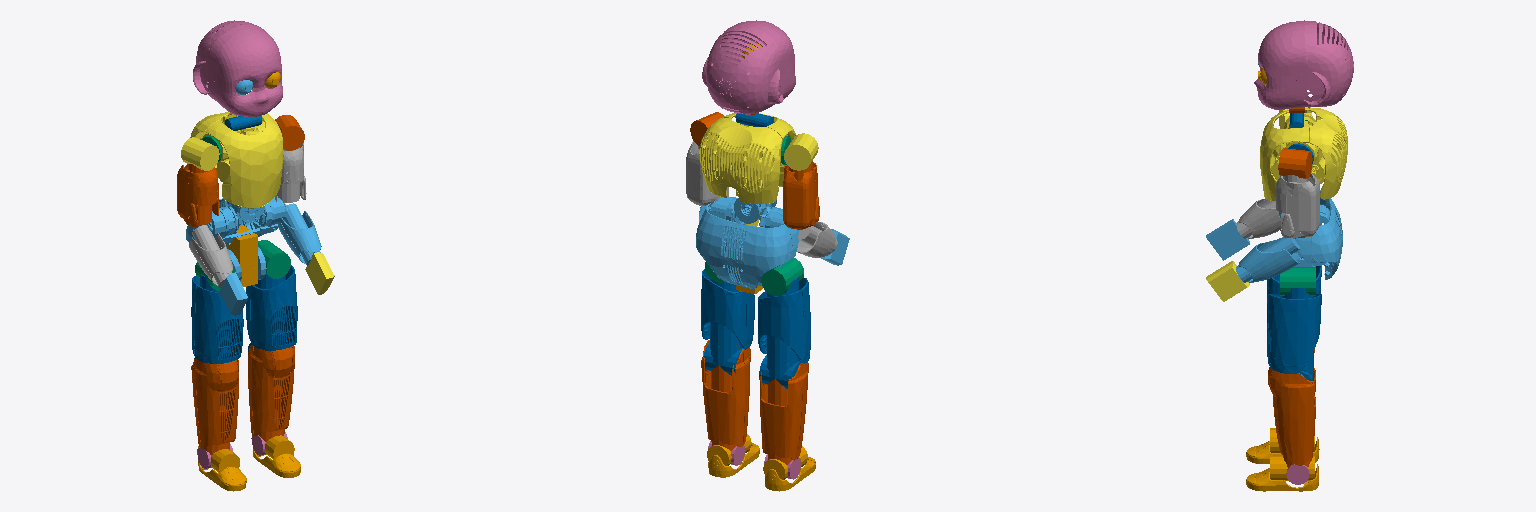
--- What the picture shows (computed from the rendered views, not written in the file) ---
Views: 3 orthographic renders of the robot side by side, from view 1: azimuth 30°, elevation 25°; view 2: azimuth 150°, elevation 25°; view 3: azimuth 270°, elevation 25°.
Robot: iCub — 42 links, 41 joints (35 revolute, 6 fixed); root link root_link; default pose: joints at zero except 2 at the middle of their limits (l_elbow = 0.973, r_elbow = 0.973).
Visible links, largest first — view 1: head, chest, l_lower_leg, r_lower_leg, l_upper_leg, r_upper_leg, torso_1, r_upper_arm, r_forearm, l_forearm, l_upper_arm, r_foot (+7 smaller); view 2: head, torso_1, chest, r_upper_leg, l_upper_leg, l_lower_leg, r_lower_leg, r_upper_arm, l_upper_arm, r_forearm, r_foot, l_foot (+2 smaller); view 3: head, chest, l_upper_leg, l_lower_leg, l_upper_arm, torso_1, l_forearm, l_foot, r_forearm, r_hand, l_hand, l_shoulder_2 (+2 smaller).
Boxes of the visible links, x1,y1,x2,y2 form: head: [193, 20, 282, 116]; chest: [190, 112, 283, 208]; l_lower_leg: [248, 338, 294, 441]; r_lower_leg: [191, 350, 238, 454]; l_upper_leg: [246, 265, 297, 351]; r_upper_leg: [191, 273, 243, 363]; torso_1: [186, 196, 287, 246]; r_upper_arm: [177, 164, 218, 227]; r_forearm: [189, 225, 233, 287]; l_forearm: [277, 203, 321, 265]; l_upper_arm: [275, 143, 306, 202]; r_foot: [197, 446, 246, 491]; head: [702, 20, 795, 114]; torso_1: [696, 197, 798, 288]; chest: [699, 113, 795, 203]; r_upper_leg: [758, 277, 810, 388]; l_upper_leg: [701, 269, 754, 375]; l_lower_leg: [701, 340, 750, 450]; r_lower_leg: [759, 355, 808, 464]; r_upper_arm: [783, 161, 819, 229]; l_upper_arm: [686, 141, 728, 205]; r_forearm: [797, 222, 837, 257]; r_foot: [763, 446, 815, 491]; l_foot: [707, 434, 759, 477]; head: [1254, 20, 1353, 109]; chest: [1260, 107, 1347, 200]; l_upper_leg: [1267, 288, 1321, 383]; l_lower_leg: [1268, 367, 1315, 466]; l_upper_arm: [1276, 173, 1319, 238]; torso_1: [1279, 190, 1342, 279]; l_forearm: [1236, 237, 1299, 282]; l_foot: [1246, 456, 1318, 491]; r_forearm: [1236, 199, 1280, 238]; r_hand: [1206, 219, 1249, 260]; l_hand: [1206, 261, 1249, 301]; l_shoulder_2: [1278, 148, 1312, 178].
Bounding box of the posed robot: 0.2946 × 0.3131 × 1.05 m (x, y, z).
Meshes: 28 distinct files referenced, 28 mesh visuals loaded (28 Collada DAE).

URDF robot description (iCub):
<?xml version="1.0" ?>
<robot name="iCub">
  <joint name="l_hip_pitch" type="revolute">
    <parent link="root_link"/>
    <child link="l_hip_1"/>
    <origin rpy="0       1.57079 -1.57079" xyz="-1.2879  0.671   0.4971"/>
    <axis xyz="0 -1  0"/>
    <limit effort="84.0" lower="-0.767945" upper="2.30383" velocity="100.0"/>
  </joint>
  <joint name="l_hip_roll" type="revolute">
    <parent link="l_hip_1"/>
    <child link="l_hip_2"/>
    <origin rpy="1.20394 -1.57079  1.93764" xyz="0 0 0"/>
    <axis xyz="1 0 0"/>
    <limit effort="84.0" lower="-2.07694" upper="0.296706" velocity="100.0"/>
  </joint>
  <joint name="l_leg_ft_sensor" type="fixed">
    <parent link="l_hip_2"/>
    <child link="l_hip_3"/>
    <origin rpy="0 0 0" xyz="0     0     0.0665"/>
    <axis xyz="0 0 0"/>
    <limit effort="0.0" lower="0.0" upper="0.0" velocity="0.0"/>
  </joint>
  <joint name="l_hip_yaw" type="revolute">
    <parent link="l_hip_3"/>
    <child link="l_upper_leg"/>
    <origin rpy="-1.5708  0      0" xyz="0      0     -0.0665"/>
    <axis xyz="0 1 0"/>
    <limit effort="40.0" lower="-1.37881" upper="1.37881" velocity="100.0"/>
  </joint>
  <joint name="l_knee" type="revolute">
    <parent link="l_upper_leg"/>
    <child link="l_lower_leg"/>
    <origin rpy="3.14159 0      1.5708" xyz="0     -0.2236  0"/>
    <axis xyz="0  0 -1"/>
    <limit effort="30.0" lower="-2.18166" upper="0.401426" velocity="100.0"/>
  </joint>
  <joint name="l_ankle_pitch" type="revolute">
    <parent link="l_lower_leg"/>
    <child link="l_ankle_1"/>
    <origin rpy="-1.5708  0      0" xyz="-0.213  0     0"/>
    <axis xyz="0 -1  0"/>
    <limit effort="24.0" lower="-0.733038" upper="0.366519" velocity="100.0"/>
  </joint>
  <joint name="l_ankle_roll" type="revolute">
    <parent link="l_ankle_1"/>
    <child link="l_ankle_2"/>
    <origin rpy="-2.64933 -1.57078  2.64933" xyz="0 0 0"/>
    <axis xyz="1 0 0"/>
    <limit effort="11.0" lower="-0.418879" upper="0.418879" velocity="100.0"/>
  </joint>
  <joint name="l_foot_ft_sensor" type="fixed">
    <parent link="l_ankle_2"/>
    <child link="l_foot"/>
    <origin rpy="0 0 0" xyz="0    0    0.037"/>
    <axis xyz="0 0 0"/>
    <limit effort="0.0" lower="0.0" upper="0.0" velocity="0.0"/>
  </joint>
  <joint name="r_hip_pitch" type="revolute">
    <parent link="root_link"/>
    <child link="r_hip_1"/>
    <origin rpy="3.14159  1.57079 -1.57079" xyz="-1.4241  0.671   0.4971"/>
    <axis xyz="0 1 0"/>
    <limit effort="84.0" lower="-0.767945" upper="2.30383" velocity="100.0"/>
  </joint>
  <joint name="r_hip_roll" type="revolute">
    <parent link="r_hip_1"/>
    <child link="r_hip_2"/>
    <origin rpy="1.93764 1.57079 1.93764" xyz="0 0 0"/>
    <axis xyz="-1  0  0"/>
    <limit effort="84.0" lower="-2.07694" upper="0.296706" velocity="100.0"/>
  </joint>
  <joint name="r_leg_ft_sensor" type="fixed">
    <parent link="r_hip_2"/>
    <child link="r_hip_3"/>
    <origin rpy="0 0 0" xyz="0     0     0.0665"/>
    <axis xyz="0 0 0"/>
    <limit effort="0.0" lower="0.0" upper="0.0" velocity="0.0"/>
  </joint>
  <joint name="r_hip_yaw" type="revolute">
    <parent link="r_hip_3"/>
    <child link="r_upper_leg"/>
    <origin rpy="-1.5708  0      0" xyz="0      0     -0.0665"/>
    <axis xyz="0 -1  0"/>
    <limit effort="40.0" lower="-1.37881" upper="1.37881" velocity="100.0"/>
  </joint>
  <joint name="r_knee" type="revolute">
    <parent link="r_upper_leg"/>
    <child link="r_lower_leg"/>
    <origin rpy="3.14158 0      1.5708" xyz="0     -0.2236  0"/>
    <axis xyz="0  0 -1"/>
    <limit effort="30.0" lower="-2.18166" upper="0.401426" velocity="100.0"/>
  </joint>
  <joint name="r_ankle_pitch" type="revolute">
    <parent link="r_lower_leg"/>
    <child link="r_ankle_1"/>
    <origin rpy="1.5708 0     0" xyz="-0.213  0     0"/>
    <axis xyz="0 1 0"/>
    <limit effort="24.0" lower="-0.733038" upper="0.366519" velocity="100.0"/>
  </joint>
  <joint name="r_ankle_roll" type="revolute">
    <parent link="r_ankle_1"/>
    <child link="r_ankle_2"/>
    <origin rpy="-0.67357  1.57079  2.46801" xyz="0 0 0"/>
    <axis xyz="-1  0  0"/>
    <limit effort="11.0" lower="-0.418879" upper="0.418879" velocity="100.0"/>
  </joint>
  <joint name="r_foot_ft_sensor" type="fixed">
    <parent link="r_ankle_2"/>
    <child link="r_foot"/>
    <origin rpy="0 0 0" xyz="0    0    0.037"/>
    <axis xyz="0 0 0"/>
    <limit effort="0.0" lower="0.0" upper="0.0" velocity="0.0"/>
  </joint>
  <joint name="torso_pitch" type="revolute">
    <parent link="root_link"/>
    <child link="torso_1"/>
    <origin rpy="3.14159 -1.57079  1.57079" xyz="-1.356  0.671  0.617"/>
    <axis xyz="0 1 0"/>
    <limit effort="36.0" lower="-0.383972" upper="1.46608" velocity="100.0"/>
  </joint>
  <joint name="torso_roll" type="revolute">
    <parent link="torso_1"/>
    <child link="torso_2"/>
    <origin rpy="1.57079  0      -1.5708" xyz="0.032 0    0"/>
    <axis xyz="0 1 0"/>
    <limit effort="80.0" lower="-0.680678" upper="0.680678" velocity="100.0"/>
  </joint>
  <joint name="torso_yaw" type="revolute">
    <parent link="torso_2"/>
    <child link="chest"/>
    <origin rpy="-1.57079  0      -1.5708" xyz="0     -0.0055  0"/>
    <axis xyz="0 -1  0"/>
    <limit effort="80.0" lower="-1.02974" upper="1.02974" velocity="100.0"/>
  </joint>
  <joint name="l_shoulder_pitch" type="revolute">
    <parent link="chest"/>
    <child link="l_shoulder_1"/>
    <origin rpy="1.30899 0      1.57079" xyz="0.00525  0.1433  -0.11026"/>
    <axis xyz="0 -1  0"/>
    <limit effort="84.0" lower="-1.65806" upper="0.0872665" velocity="100.0"/>
  </joint>
  <joint name="l_shoulder_roll" type="revolute">
    <parent link="l_shoulder_1"/>
    <child link="l_shoulder_2"/>
    <origin rpy="1.5708   0      -1.57079" xyz="0 0 0"/>
    <axis xyz="0 1 0"/>
    <limit effort="84.0" lower="0.0" upper="2.80649" velocity="100.0"/>
  </joint>
  <joint name="l_shoulder_yaw" type="revolute">
    <parent link="l_shoulder_2"/>
    <child link="l_shoulder_3"/>
    <origin rpy="0    0    1.309" xyz="0 0 0"/>
    <axis xyz="0 0 1"/>
    <limit effort="34.0" lower="-0.645772" upper="1.74533" velocity="100.0"/>
  </joint>
  <joint name="l_arm_ft_sensor" type="fixed">
    <parent link="l_shoulder_3"/>
    <child link="l_upper_arm"/>
    <origin rpy="0 0 0" xyz="0.015 0    0.068"/>
    <axis xyz="0 0 0"/>
    <limit effort="0.0" lower="0.0" upper="0.0" velocity="0.0"/>
  </joint>
  <joint name="l_elbow" type="revolute">
    <parent link="l_upper_arm"/>
    <child link="l_elbow_1"/>
    <origin rpy="0 0 0" xyz="0      0      0.08428"/>
    <axis xyz="0 1 0"/>
    <limit effort="20.0" lower="0.0959931" upper="1.85005" velocity="100.0"/>
  </joint>
  <joint name="l_wrist_prosup" type="revolute">
    <parent link="l_elbow_1"/>
    <child link="l_forearm"/>
    <origin rpy="1.57079  0      -1.5708" xyz="-0.015  0     0"/>
    <axis xyz="0 1 0"/>
    <limit effort="0.45" lower="-0.872665" upper="0.872665" velocity="100.0"/>
  </joint>
  <joint name="l_wrist_pitch" type="revolute">
    <parent link="l_forearm"/>
    <child link="l_wrist_1"/>
    <origin rpy="1.5708  0      1.57079" xyz="0     0.1373 0"/>
    <axis xyz="0 1 0"/>
    <limit effort="0.65" lower="-1.13446" upper="0.174533" velocity="100.0"/>
  </joint>
  <joint name="l_wrist_yaw" type="revolute">
    <parent link="l_wrist_1"/>
    <child link="l_hand"/>
    <origin rpy="0 0 0" xyz="0 0 0"/>
    <axis xyz="0 0 1"/>
    <limit effort="0.65" lower="-0.436332" upper="0.436332" velocity="100.0"/>
  </joint>
  <joint name="neck_pitch" type="revolute">
    <parent link="chest"/>
    <child link="neck_1"/>
    <origin rpy="1.57079 0      1.57079" xyz="0.00231 0.1933  0"/>
    <axis xyz="0 1 0"/>
    <limit effort="-1.0" lower="-0.698132" upper="0.523599" velocity="0.0"/>
  </joint>
  <joint name="neck_roll" type="revolute">
    <parent link="neck_1"/>
    <child link="neck_2"/>
    <origin rpy="-1.5708  0     -1.5708" xyz="0.0095 0     0"/>
    <axis xyz="0 -1  0"/>
    <limit effort="-1.0" lower="-1.22173" upper="1.0472" velocity="0.0"/>
  </joint>
  <joint name="neck_yaw" type="revolute">
    <parent link="neck_2"/>
    <child link="head"/>
    <origin rpy="-1.5708   0       1.57079" xyz="0 0 0"/>
    <axis xyz="0 -1  0"/>
    <limit effort="-1.0" lower="-0.959931" upper="0.959931" velocity="0.0"/>
  </joint>
  <joint name="eye_tilt" type="revolute">
    <parent link="head"/>
    <child link="eye_frame"/>
    <origin rpy="0 0 0" xyz="-0.04859 -0.11204  0"/>
    <axis xyz="0 0 1"/>
    <limit effort="-1.0" lower="-0.942477796" upper="0.942477796" velocity="0.0"/>
  </joint>
  <joint name="left_eye_pan" type="revolute">
    <parent link="eye_frame"/>
    <child link="left_eye"/>
    <origin rpy="0 0 0" xyz="0     0    -0.034"/>
    <axis xyz="0 -1  0"/>
    <limit effort="-1.0" lower="-0.942477796" upper="0.942477796" velocity="0.0"/>
  </joint>
  <joint name="right_eye_pan" type="revolute">
    <parent link="eye_frame"/>
    <child link="right_eye"/>
    <origin rpy="0 0 0" xyz="0    0    0.034"/>
    <axis xyz="0 -1  0"/>
    <limit effort="-1.0" lower="-0.942477796" upper="0.942477796" velocity="0.0"/>
  </joint>
  <joint name="r_shoulder_pitch" type="revolute">
    <parent link="chest"/>
    <child link="r_shoulder_1"/>
    <origin rpy="-1.30899  0       1.57079" xyz="0.00525 0.1433  0.11025"/>
    <axis xyz="0 1 0"/>
    <limit effort="84.0" lower="-1.65806" upper="0.0872665" velocity="100.0"/>
  </joint>
  <joint name="r_shoulder_roll" type="revolute">
    <parent link="r_shoulder_1"/>
    <child link="r_shoulder_2"/>
    <origin rpy="-1.57079  0      -1.57079" xyz="0 0 0"/>
    <axis xyz="0 -1  0"/>
    <limit effort="84.0" lower="0.0" upper="2.80649" velocity="100.0"/>
  </joint>
  <joint name="r_shoulder_yaw" type="revolute">
    <parent link="r_shoulder_2"/>
    <child link="r_shoulder_3"/>
    <origin rpy="3.14158 0      1.309" xyz="0 0 0"/>
    <axis xyz="0  0 -1"/>
    <limit effort="34.0" lower="-0.645772" upper="1.74533" velocity="100.0"/>
  </joint>
  <joint name="r_arm_ft_sensor" type="fixed">
    <parent link="r_shoulder_3"/>
    <child link="r_upper_arm"/>
    <origin rpy="0 0 0" xyz="0.015 0    0.068"/>
    <axis xyz="0 0 0"/>
    <limit effort="0.0" lower="0.0" upper="0.0" velocity="0.0"/>
  </joint>
  <joint name="r_elbow" type="revolute">
    <parent link="r_upper_arm"/>
    <child link="r_elbow_1"/>
    <origin rpy="3.14158 0      3.14159" xyz="0      0      0.08428"/>
    <axis xyz="0 1 0"/>
    <limit effort="20.0" lower="0.0959931" upper="1.85005" velocity="100.0"/>
  </joint>
  <joint name="r_wrist_prosup" type="revolute">
    <parent link="r_elbow_1"/>
    <child link="r_forearm"/>
    <origin rpy="1.57079  0      -1.5708" xyz="0.015 0    0"/>
    <axis xyz="0 1 0"/>
    <limit effort="0.45" lower="-0.872665" upper="0.872665" velocity="100.0"/>
  </joint>
  <joint name="r_wrist_pitch" type="revolute">
    <parent link="r_forearm"/>
    <child link="r_wrist_1"/>
    <origin rpy="1.5708  0      1.57079" xyz="0     -0.1373  0"/>
    <axis xyz="0 1 0"/>
    <limit effort="0.65" lower="-1.13446" upper="0.174533" velocity="100.0"/>
  </joint>
  <joint name="r_wrist_yaw" type="revolute">
    <parent link="r_wrist_1"/>
    <child link="r_hand"/>
    <origin rpy="0      0      3.14159" xyz="0 0 0"/>
    <axis xyz="0 0 1"/>
    <limit effort="0.65" lower="-0.436332" upper="0.436332" velocity="100.0"/>
  </joint>
  <link name="root_link">
    <inertial>
      <mass value="4.72"/>
      <origin rpy="0 0 0" xyz="0 0 0"/>
      <inertia ixx="0.01" ixy="0" ixz="0" iyy="0.01" iyz="0" izz="0.01"/>
    </inertial>
    <collision name="root_link_collision">
      <origin rpy="0      0      1.57079" xyz="-1.356  0.671  0.617"/>
      <geometry>
        <mesh filename="package://demonstrator6_description/meshes/collision/icub_simple_collision_root_link.dae" scale="1 1 1"/>
      </geometry>
    </collision>
    <visual name="root_link_visual">
      <origin rpy="0      0      1.57079" xyz="-1.356  0.671  0.617"/>
      <geometry>
        <mesh filename="package://demonstrator6_description/meshes/visual/icub_root_link.dae" scale="1 1 1"/>
      </geometry>
    </visual>
  </link>
  <link name="l_hip_1">
    <inertial>
      <mass value="0.754"/>
      <origin rpy="0 0 0" xyz="0     -0.0782  0"/>
      <inertia ixx="0.01" ixy="2.059e-06" ixz="1.451e-06" iyy="0.01" iyz="1.545e-06" izz="0.01"/>
    </inertial>
    <collision name="l_hip_1_collision">
      <origin rpy="-0.7854   1.57079 -2.35618" xyz="0 0 0"/>
      <geometry>
        <mesh filename="package://demonstrator6_description/meshes/collision/icub_simple_collision_l_hip_1.dae" scale="1 1 1"/>
      </geometry>
    </collision>
    <visual name="l_hip_1_visual">
      <origin rpy="-0.7854   1.57079 -2.35618" xyz="0 0 0"/>
      <geometry>
        <mesh filename="package://demonstrator6_description/meshes/visual/icub_l_hip_1.dae" scale="1 1 1"/>
      </geometry>
    </visual>
  </link>
  <link name="l_hip_2">
    <inertial>
      <mass value="0.526"/>
      <origin rpy="0 0 0" xyz="0      0      0.03045"/>
      <inertia ixx="0.01" ixy="-7.4e-08" ixz="1.0835e-05" iyy="0.01" iyz="-6.2e-08" izz="0.01"/>
    </inertial>
    <collision name="l_hip_2_collision">
      <origin rpy="0.78536 -1.57079  2.35623" xyz="0 0 0"/>
      <geometry>
        <mesh filename="package://demonstrator6_description/meshes/collision/icub_simple_collision_l_hip_2.dae" scale="1 1 1"/>
      </geometry>
    </collision>
    <visual name="l_hip_2_visual">
      <origin rpy="0.78536 -1.57079  2.35623" xyz="0 0 0"/>
      <geometry>
        <mesh filename="package://demonstrator6_description/meshes/visual/icub_l_hip_2.dae" scale="1 1 1"/>
      </geometry>
    </visual>
  </link>
  <link name="l_hip_3">
    <inertial>
      <mass value="0.1"/>
      <origin rpy="0 0 0" xyz="0 0 0"/>
      <inertia ixx="0.01" ixy="0" ixz="0" iyy="0.01" iyz="0" izz="0.01"/>
    </inertial>
  </link>
  <link name="l_upper_leg">
    <inertial>
      <mass value="20.175"/>
      <origin rpy="0 0 0" xyz="0.00144 -0.15942 -0.00039"/>
      <inertia ixx="100.01" ixy="-6.726e-05" ixz="2.267e-06" iyy="100.01" iyz="3.63726e-05" izz="100.01"/>
    </inertial>
    <collision name="l_upper_leg_collision">
      <origin rpy="-2.67797  1.57079 -1.10715" xyz="0 0 0"/>
      <geometry>
        <mesh filename="package://demonstrator6_description/meshes/collision/icub_simple_collision_l_thigh.dae" scale="1 1 1"/>
      </geometry>
    </collision>
    <visual name="l_upper_leg_visual">
      <origin rpy="-2.67797  1.57079 -1.10715" xyz="0 0 0"/>
      <geometry>
        <mesh filename="package://demonstrator6_description/meshes/visual/icub_l_thigh.dae" scale="1 1 1"/>
      </geometry>
    </visual>
  </link>
  <link name="l_lower_leg">
    <inertial>
      <mass value="10.264"/>
      <origin rpy="0 0 0" xyz="-0.1071   0.00182  0.00211"/>
      <inertia ixx="1000.01" ixy="-0.000185699" ixz="-6.3147e-05" iyy="1000.01" iyz="7.86e-07" izz="1000.01"/>
    </inertial>
    <collision name="l_lower_leg_collision">
      <origin rpy="-3.14159  0       1.5708" xyz="0 0 0"/>
      <geometry>
        <mesh filename="package://demonstrator6_description/meshes/collision/icub_simple_collision_l_shank.dae" scale="1 1 1"/>
      </geometry>
    </collision>
    <visual name="l_lower_leg_visual">
      <origin rpy="-3.14159  0       1.5708" xyz="0 0 0"/>
      <geometry>
        <mesh filename="package://demonstrator6_description/meshes/visual/icub_l_shank.dae" scale="1 1 1"/>
      </geometry>
    </visual>
  </link>
  <link name="l_ankle_1">
    <inertial>
      <mass value="100.746"/>
      <origin rpy="0 0 0" xyz="-0.0054   0.00163  0.0172"/>
      <inertia ixx="0.01" ixy="-7.081e-06" ixz="4.1421e-05" iyy="0.01" iyz="2.0817e-05" izz="0.01"/>
    </inertial>
    <collision name="l_ankle_1_collision">
      <origin rpy="1.5708 0     0" xyz="0 0 0"/>
      <geometry>
        <mesh filename="package://demonstrator6_description/meshes/collision/icub_simple_collision_l_ankle_1.dae" scale="1 1 1"/>
      </geometry>
    </collision>
    <visual name="l_ankle_1_visual">
      <origin rpy="1.5708 0     0" xyz="0 0 0"/>
      <geometry>
        <mesh filename="package://demonstrator6_description/meshes/visual/icub_l_ankle_1.dae" scale="1 1 1"/>
      </geometry>
    </visual>
  </link>
  <link name="l_ankle_2">
    <inertial>
      <mass value="100.2675"/>
      <origin rpy="0 0 0" xyz="0    0    0.037"/>
      <inertia ixx="0.01" ixy="0" ixz="0" iyy="0.01" iyz="0" izz="0.01"/>
    </inertial>
  </link>
  <link name="l_foot">
    <inertial>
      <mass value="1000.5935"/>
      <origin rpy="0 0 0" xyz="0.02406 -0.00061 -0.02841"/>
      <inertia ixx="1000.0" ixy="0.0" ixz="0.0" iyy="1000.0" iyz="0.0" izz="1000.0"/>
    </inertial>
    <collision name="l_foot_collision">
      <origin rpy="0 0 0" xyz="0.03  0   -0.01"/>
      <geometry>
        <box size="0.15 0.07 0.03"/>
      </geometry>
    </collision>
    <visual name="l_foot_visual">
      <origin rpy="-0.7854   1.57079 -0.7854" xyz="0     0    -0.037"/>
      <geometry>
        <mesh filename="package://demonstrator6_description/meshes/visual/icub_l_foot.dae" scale="1 1 1"/>
      </geometry>
    </visual>
  </link>
  <link name="r_hip_1">
    <inertial>
      <mass value="0.754"/>
      <origin rpy="0 0 0" xyz="0     -0.0782  0"/>
      <inertia ixx="0.01" ixy="0" ixz="0" iyy="0.01" iyz="0" izz="0.01"/>
    </inertial>
    <collision name="r_hip_1_collision">
      <origin rpy="1.76819 -1.57079  2.76109" xyz="0 0 0"/>
      <geometry>
        <mesh filename="package://demonstrator6_description/meshes/collision/icub_simple_collision_r_hip_1.dae" scale="1 1 1"/>
      </geometry>
    </collision>
    <visual name="r_hip_1_visual">
      <origin rpy="1.76819 -1.57079  2.76109" xyz="0 0 0"/>
      <geometry>
        <mesh filename="package://demonstrator6_description/meshes/visual/icub_r_hip_1.dae" scale="1 1 1"/>
      </geometry>
    </visual>
  </link>
  <link name="r_hip_2">
    <inertial>
      <mass value="0.526"/>
      <origin rpy="0 0 0" xyz="0      0      0.03045"/>
      <inertia ixx="0.01" ixy="0" ixz="0" iyy="0.01" iyz="0" izz="0.01"/>
    </inertial>
    <collision name="r_hip_2_collision">
      <origin rpy="-2.35627 -1.57079  2.35627" xyz="0 0 0"/>
      <geometry>
        <mesh filename="package://demonstrator6_description/meshes/collision/icub_simple_collision_r_hip_2.dae" scale="1 1 1"/>
      </geometry>
    </collision>
    <visual name="r_hip_2_visual">
      <origin rpy="-2.35627 -1.57079  2.35627" xyz="0 0 0"/>
      <geometry>
        <mesh filename="package://demonstrator6_description/meshes/visual/icub_r_hip_2.dae" scale="1 1 1"/>
      </geometry>
    </visual>
  </link>
  <link name="r_hip_3">
    <inertial>
      <mass value="0.1"/>
      <origin rpy="0 0 0" xyz="0 0 0"/>
      <inertia ixx="0.01" ixy="0" ixz="0" iyy="0.01" iyz="0" izz="0.01"/>
    </inertial>
  </link>
  <link name="r_upper_leg">
    <inertial>
      <mass value="20.175"/>
      <origin rpy="0 0 0" xyz="0.00144 -0.15942  0.00039"/>
      <inertia ixx="100.01" ixy="0" ixz="0" iyy="100.01" iyz="-2.71051e-20" izz="100.01"/>
    </inertial>
    <collision name="r_upper_leg_collision">
      <origin rpy="1.57087e+00 -1.57079e+00 -7.00000e-05" xyz="0 0 0"/>
      <geometry>
        <mesh filename="package://demonstrator6_description/meshes/collision/icub_simple_collision_r_thigh.dae" scale="1 1 1"/>
      </geometry>
    </collision>
    <visual name="r_upper_leg_visual">
      <origin rpy="1.57087e+00 -1.57079e+00 -7.00000e-05" xyz="0 0 0"/>
      <geometry>
        <mesh filename="package://demonstrator6_description/meshes/visual/icub_r_thigh.dae" scale="1 1 1"/>
      </geometry>
    </visual>
  </link>
  <link name="r_lower_leg">
    <inertial>
      <mass value="100.264"/>
      <origin rpy="0 0 0" xyz="-0.1071   0.00182 -0.00211"/>
      <inertia ixx="100.01" ixy="5.42101e-20" ixz="-5.42101e-20" iyy="100.01" iyz="8.47033e-22" izz="100.01"/>
    </inertial>
    <collision name="r_lower_leg_collision">
      <origin rpy="3.14159 0      1.5708" xyz="0 0 0"/>
      <geometry>
        <mesh filename="package://demonstrator6_description/meshes/collision/icub_simple_collision_r_shank.dae" scale="1 1 1"/>
      </geometry>
    </collision>
    <visual name="r_lower_leg_visual">
      <origin rpy="3.14159 0      1.5708" xyz="0 0 0"/>
      <geometry>
        <mesh filename="package://demonstrator6_description/meshes/visual/icub_r_shank.dae" scale="1 1 1"/>
      </geometry>
    </visual>
  </link>
  <link name="r_ankle_1">
    <inertial>
      <mass value="100.746"/>
      <origin rpy="0 0 0" xyz="-0.0054   0.00163 -0.0172"/>
      <inertia ixx="100.01" ixy="-1.69407e-21" ixz="1.35525e-20" iyy="100.01" iyz="3.38813e-21" izz="100.01"/>
    </inertial>
    <collision name="r_ankle_1_collision">
      <origin rpy="-1.5708  0      0" xyz="0 0 0"/>
      <geometry>
        <mesh filename="package://demonstrator6_description/meshes/collision/icub_simple_collision_r_ankle_1.dae" scale="1 1 1"/>
      </geometry>
    </collision>
    <visual name="r_ankle_1_visual">
      <origin rpy="-1.5708  0      0" xyz="0 0 0"/>
      <geometry>
        <mesh filename="package://demonstrator6_description/meshes/visual/icub_r_ankle_1.dae" scale="1 1 1"/>
      </geometry>
    </visual>
  </link>
  <link name="r_ankle_2">
    <inertial>
      <mass value="100.2675"/>
      <origin rpy="0 0 0" xyz="0    0    0.037"/>
      <inertia ixx="100.01" ixy="0" ixz="0" iyy="100.01" iyz="0" izz="100.01"/>
    </inertial>
  </link>
  <link name="r_foot">
    <inertial>
      <mass value="1000.5935"/>
      <origin rpy="0 0 0" xyz="0.02406  0.00061 -0.02841"/>
      <inertia ixx="1000.0" ixy="0.0" ixz="0.0" iyy="1000.0" iyz="0.0" izz="1000.0"/>
    </inertial>
    <collision name="r_foot_collision">
      <origin rpy="0 0 0" xyz="0.03  0   -0.01"/>
      <geometry>
        <box size="0.15 0.07 0.03"/>
      </geometry>
    </collision>
    <visual name="r_foot_visual">
      <origin rpy="-2.81983  1.57079  0.32176" xyz="0     0    -0.037"/>
      <geometry>
        <mesh filename="package://demonstrator6_description/meshes/visual/icub_r_foot.dae" scale="1 1 1"/>
      </geometry>
    </visual>
  </link>
  <link name="torso_1">
    <inertial>
      <mass value="0.1"/>
      <origin rpy="0 0 0" xyz="0 0 0"/>
      <inertia ixx="0.01" ixy="-4.263e-05" ixz="-3.889e-08" iyy="0.01" iyz="0" izz="0.01"/>
    </inertial>
    <collision name="torso_1_collision">
      <origin rpy="-1.5708  0      0" xyz="0 0 0"/>
      <geometry>
        <mesh filename="package://demonstrator6_description/meshes/collision/icub_simple_collision_lap_belt_1.dae" scale="1 1 1"/>
      </geometry>
    </collision>
    <visual name="torso_1_visual">
      <origin rpy="-1.5708  0      0" xyz="0 0 0"/>
      <geometry>
        <mesh filename="package://demonstrator6_description/meshes/visual/icub_lap_belt_1.dae" scale="1 1 1"/>
      </geometry>
    </visual>
  </link>
  <link name="torso_2">
    <inertial>
      <mass value="0.1"/>
      <origin rpy="0 0 0" xyz="0 0 0"/>
      <inertia ixx="0.01" ixy="-1.923e-06" ixz="5.095e-05" iyy="0.01" iyz="-3.849e-07" izz="0.01"/>
    </inertial>
  </link>
  <link name="chest">
    <inertial>
      <mass value="4.81"/>
      <origin rpy="0 0 0" xyz="0.00222 0.075   0"/>
      <inertia ixx="0.07472" ixy="-3.6e-06" ixz="-4.705e-05" iyy="0.08145" iyz="0.004567" izz="0.01306"/>
    </inertial>
    <collision name="chest_collision">
      <origin rpy="-1.10717 -1.57079  2.67798" xyz="-0.0055  0      0"/>
      <geometry>
        <mesh filename="package://demonstrator6_description/meshes/collision/icub_simple_collision_chest.dae" scale="1 1 1"/>
      </geometry>
    </collision>
    <visual name="chest_visual">
      <origin rpy="-1.10717 -1.57079  2.67798" xyz="-0.0055  0      0"/>
      <geometry>
        <mesh filename="package://demonstrator6_description/meshes/visual/icub_chest.dae" scale="1 1 1"/>
      </geometry>
    </visual>
  </link>
  <link name="l_shoulder_1">
    <inertial>
      <mass value="0.189"/>
      <origin rpy="0 0 0" xyz="0       0.0187  -0.00119"/>
      <inertia ixx="0.01" ixy="9e-09" ixz="0" iyy="0.01" iyz="-1.7e-08" izz="0.01"/>
    </inertial>
    <collision name="l_shoulder_1_collision">
      <origin rpy="-0.30106  1.57079 -1.87186" xyz="0       0.10928 -0.00521"/>
      <geometry>
        <mesh filename="package://demonstrator6_description/meshes/collision/icub_simple_collision_l_shoulder_1.dae" scale="1 1 1"/>
      </geometry>
    </collision>
    <visual name="l_shoulder_1_visual">
      <origin rpy="-0.30106  1.57079 -1.87186" xyz="0       0.10928 -0.00521"/>
      <geometry>
        <mesh filename="package://demonstrator6_description/meshes/visual/icub_l_shoulder_1.dae" scale="1 1 1"/>
      </geometry>
    </visual>
  </link>
  <link name="l_shoulder_2">
    <inertial>
      <mass value="0.179"/>
      <origin rpy="0 0 0" xyz="9.00e-05 -6.27e-03  1.66e-02"/>
      <inertia ixx="0.01" ixy="4.66e-07" ixz="3.65e-07" iyy="0.01" iyz="-2.0524e-05" izz="0.01"/>
    </inertial>
    <collision name="l_shoulder_2_collision">
      <origin rpy="-2.14033  1.57079 -0.56953" xyz="-0.00154 -0.00521  0"/>
      <geometry>
        <mesh filename="package://demonstrator6_description/meshes/collision/icub_simple_collision_l_shoulder_2.dae" scale="1 1 1"/>
      </geometry>
    </collision>
    <visual name="l_shoulder_2_visual">
      <origin rpy="-2.14033  1.57079 -0.56953" xyz="-0.00154 -0.00521  0"/>
      <geometry>
        <mesh filename="package://demonstrator6_description/meshes/visual/icub_l_shoulder_2.dae" scale="1 1 1"/>
      </geometry>
    </visual>
  </link>
  <link name="l_shoulder_3">
    <inertial>
      <mass value="0.156157"/>
      <origin rpy="0 0 0" xyz="5.590e-03 9.000e-05 5.013e-02"/>
      <inertia ixx="0.01" ixy="-5.662e-08" ixz="-4.3618e-06" iyy="0.01" iyz="-7.42844e-07" izz="0.01"/>
    </inertial>
  </link>
  <link name="l_upper_arm">
    <inertial>
      <mass value="0.727843"/>
      <origin rpy="0 0 0" xyz="-1.50e-04 -9.00e-05  2.98e-02"/>
      <inertia ixx="0.01" ixy="-1.08e-06" ixz="-2.29e-06" iyy="0.01" iyz="3.57e-06" izz="0.01"/>
    </inertial>
    <collision name="l_upper_arm_collision">
      <origin rpy="0     0    -1.309" xyz="-0.02043  0.00014 -0.068"/>
      <geometry>
        <mesh filename="package://demonstrator6_description/meshes/collision/icub_simple_collision_l_arm.dae" scale="1 1 1"/>
      </geometry>
    </collision>
    <visual name="l_upper_arm_visual">
      <origin rpy="0     0    -1.309" xyz="-0.02043  0.00014 -0.068"/>
      <geometry>
        <mesh filename="package://demonstrator6_description/meshes/visual/icub_l_arm.dae" scale="1 1 1"/>
      </geometry>
    </visual>
  </link>
  <link name="l_elbow_1">
    <inertial>
      <mass value="0.1"/>
      <origin rpy="0 0 0" xyz="-0.0013   0.00371 -0.00105"/>
      <inertia ixx="0.01" ixy="-5.15e-07" ixz="-4.08e-07" iyy="0.01" iyz="-3.71e-07" izz="0.01"/>
    </inertial>
  </link>
  <link name="l_forearm">
    <inertial>
      <mass value="0.525"/>
      <origin rpy="0 0 0" xyz="0.00034 0.066   0.00476"/>
      <inertia ixx="0.01" ixy="4.337e-06" ixz="2.39e-07" iyy="0.01" iyz="1.9381e-05" izz="0.01"/>
    </inertial>
    <collision name="l_forearm_collision">
      <origin rpy="-2.66395  1.57079 -1.09315" xyz="-0.00014  0       0.02043"/>
      <geometry>
        <mesh filename="package://demonstrator6_description/meshes/collision/icub_simple_collision_l_forearm.dae" scale="1 1 1"/>
      </geometry>
    </collision>
    <visual name="l_forearm_visual">
      <origin rpy="-2.66395  1.57079 -1.09315" xyz="-0.00014  0       0.02043"/>
      <geometry>
        <mesh filename="package://demonstrator6_description/meshes/visual/icub_l_forearm.dae" scale="1 1 1"/>
      </geometry>
    </visual>
  </link>
  <link name="l_wrist_1">
    <inertial>
      <mass value="0.1"/>
      <origin rpy="0 0 0" xyz="0 0 0"/>
      <inertia ixx="0.01" ixy="0" ixz="0" iyy="0.01" iyz="0" izz="0.01"/>
    </inertial>
  </link>
  <link name="l_hand">
    <inertial>
      <mass value="0.213"/>
      <origin rpy="0 0 0" xyz="0.07023 -0.00805 -0.007"/>
      <inertia ixx="1.01" ixy="1.278e-05" ixz="4.823e-06" iyy="1.01" iyz="-1.8188e-05" izz="1.01"/>
    </inertial>
    <collision name="l_hand_collision">
      <origin rpy="0 0 0" xyz="0       0.02043 -0.00014"/>
      <geometry>
        <mesh filename="package://demonstrator6_description/meshes/collision/icub_simple_collision_l_hand.dae" scale="1 1 1"/>
      </geometry>
    </collision>
    <visual name="l_hand_visual">
      <origin rpy="0 0 0" xyz="0       0.02043 -0.00014"/>
      <geometry>
        <mesh filename="package://demonstrator6_description/meshes/visual/icub_l_hand.dae" scale="1 1 1"/>
      </geometry>
    </visual>
  </link>
  <link name="neck_1">
    <inertial>
      <mass value="0.1"/>
      <origin rpy="0 0 0" xyz="0 0 0"/>
      <inertia ixx="0.01" ixy="0" ixz="0" iyy="0.01" iyz="0" izz="0.01"/>
    </inertial>
    <collision name="neck_1_collision">
      <origin rpy="3.14159 -1.57079  1.5708" xyz="0      0     -0.0055"/>
      <geometry>
        <mesh filename="package://demonstrator6_description/meshes/collision/icub_simple_collision_neck_1.dae" scale="1 1 1"/>
      </geometry>
    </collision>
    <visual name="neck_1_visual">
      <origin rpy="3.14159 -1.57079  1.5708" xyz="0      0     -0.0055"/>
      <geometry>
        <mesh filename="package://demonstrator6_description/meshes/visual/icub_neck_1.dae" scale="1 1 1"/>
      </geometry>
    </visual>
  </link>
  <link name="neck_2">
    <inertial>
      <mass value="0.1"/>
      <origin rpy="0 0 0" xyz="0 0 0"/>
      <inertia ixx="0.01" ixy="0" ixz="0" iyy="0.01" iyz="0" izz="0.01"/>
    </inertial>
    <collision name="neck_2_collision">
      <origin rpy="-3.14157 -1.57079 -1.57082" xyz="0     0.0055 0.0235"/>
      <geometry>
        <mesh filename="package://demonstrator6_description/meshes/collision/icub_simple_collision_neck_2.dae" scale="1 1 1"/>
      </geometry>
    </collision>
    <visual name="neck_2_visual">
      <origin rpy="-3.14157 -1.57079 -1.57082" xyz="0     0.0055 0.0235"/>
      <geometry>
        <mesh filename="package://demonstrator6_description/meshes/visual/icub_neck_2.dae" scale="1 1 1"/>
      </geometry>
    </visual>
  </link>
  <link name="head">
    <inertial>
      <mass value="3"/>
      <origin rpy="0 0 0" xyz="0.0185 -0.1108  0"/>
      <inertia ixx="0.01" ixy="0" ixz="0" iyy="0.01" iyz="0" izz="0.01"/>
    </inertial>
    <collision name="head_collision">
      <origin rpy="-1.32582  1.57079 -2.89662" xyz="0.00449 -0.0235   0"/>
      <geometry>
        <mesh filename="package://demonstrator6_description/meshes/collision/icub_simple_collision_head.dae" scale="1 1 1"/>
      </geometry>
    </collision>
    <visual name="head_visual">
      <origin rpy="-1.32582  1.57079 -2.89662" xyz="0.00449 -0.0235   0"/>
      <geometry>
        <mesh filename="package://demonstrator6_description/meshes/visual/icub_head.dae" scale="1 1 1"/>
      </geometry>
    </visual>
  </link>
  <link name="eye_frame">
    <inertial>
      <mass value="0.5"/>
      <origin rpy="0 0 0" xyz="0 0 0"/>
      <inertia ixx="0.01" ixy="0" ixz="0" iyy="0.01" iyz="0" izz="0.01"/>
    </inertial>
    <collision name="eye_frame_collision">
      <origin rpy="0 0 0" xyz="0 0 0"/>
      <geometry>
        <sphere radius=".005"/>
      </geometry>
    </collision>
    <visual name="eye_frame_visual">
      <origin rpy="0 0 0" xyz="0 0 0"/>
      <geometry>
        <sphere radius=".005"/>
      </geometry>
    </visual>
  </link>
  <link name="left_eye">
    <inertial>
      <mass value="0.5"/>
      <origin rpy="0 0 0" xyz="0 0 0"/>
      <inertia ixx="0.01" ixy="0" ixz="0" iyy="0.01" iyz="0" izz="0.01"/>
    </inertial>
    <collision name="left_eye_collision">
      <origin rpy="0 0 0" xyz="0 0 0"/>
      <geometry>
        <sphere radius=".0245"/>
      </geometry>
    </collision>
    <collision name="left_pupil_collision">
      <origin rpy="1.5707 0     1.5707" xyz="-0.0245  0      0"/>
      <geometry>
        <cylinder length=".008" radius=".008"/>
      </geometry>
    </collision>
    <visual name="left_eye_visual">
      <origin rpy="0 0 0" xyz="0 0 0"/>
      <geometry>
        <sphere radius=".0245"/>
      </geometry>
    </visual>
    <visual name="left_pupil_visual">
      <origin rpy="1.5707 0     1.5707" xyz="-0.0245  0      0"/>
      <geometry>
        <cylinder length=".008" radius=".008"/>
      </geometry>
    </visual>
  </link>
  <link name="right_eye">
    <inertial>
      <mass value="0.5"/>
      <origin rpy="0 0 0" xyz="0 0 0"/>
      <inertia ixx="0.01" ixy="0" ixz="0" iyy="0.01" iyz="0" izz="0.01"/>
    </inertial>
    <collision name="right_eye_collision">
      <origin rpy="0 0 0" xyz="0 0 0"/>
      <geometry>
        <sphere radius=".0245"/>
      </geometry>
    </collision>
    <collision name="right_pupil_collision">
      <origin rpy="1.5707 0     1.5707" xyz="-0.0245  0      0"/>
      <geometry>
        <cylinder length=".008" radius=".008"/>
      </geometry>
    </collision>
    <visual name="right_eye_visual">
      <origin rpy="0 0 0" xyz="0 0 0"/>
      <geometry>
        <sphere radius=".0245"/>
      </geometry>
    </visual>
    <visual name="right_pupil_visual">
      <origin rpy="1.5707 0     1.5707" xyz="-0.0245  0      0"/>
      <geometry>
        <cylinder length=".008" radius=".008"/>
      </geometry>
    </visual>
  </link>
  <link name="r_shoulder_1">
    <inertial>
      <mass value="0.189"/>
      <origin rpy="0 0 0" xyz="0      0.0187  0.00119"/>
      <inertia ixx="0.01" ixy="2.1e-08" ixz="-1e-09" iyy="0.01" iyz="4.22e-06" izz="0.01"/>
    </inertial>
    <collision name="r_shoulder_1_collision">
      <origin rpy="3.06003  1.57079 -1.65235" xyz="0      0.10928 0.00521"/>
      <geometry>
        <mesh filename="package://demonstrator6_description/meshes/collision/icub_simple_collision_r_shoulder_1.dae" scale="1 1 1"/>
      </geometry>
    </collision>
    <visual name="r_shoulder_1_visual">
      <origin rpy="3.06003  1.57079 -1.65235" xyz="0      0.10928 0.00521"/>
      <geometry>
        <mesh filename="package://demonstrator6_description/meshes/visual/icub_r_shoulder_1.dae" scale="1 1 1"/>
      </geometry>
    </visual>
  </link>
  <link name="r_shoulder_2">
    <inertial>
      <mass value="0.179"/>
      <origin rpy="0 0 0" xyz="-9.00e-05 -6.27e-03 -1.66e-02"/>
      <inertia ixx="0.01" ixy="-4.53e-07" ixz="2.03e-07" iyy="0.01" iyz="2.07e-05" izz="0.01"/>
    </inertial>
    <collision name="r_shoulder_2_collision">
      <origin rpy="-1.00125 -1.57079  2.57205" xyz="-0.00154 -0.00521  0"/>
      <geometry>
        <mesh filename="package://demonstrator6_description/meshes/collision/icub_simple_collision_r_shoulder_2.dae" scale="1 1 1"/>
      </geometry>
    </collision>
    <visual name="r_shoulder_2_visual">
      <origin rpy="-1.00125 -1.57079  2.57205" xyz="-0.00154 -0.00521  0"/>
      <geometry>
        <mesh filename="package://demonstrator6_description/meshes/visual/icub_r_shoulder_2.dae" scale="1 1 1"/>
      </geometry>
    </visual>
  </link>
  <link name="r_shoulder_3">
    <inertial>
      <mass value="0.155"/>
      <origin rpy="0 0 0" xyz="5.530e-03 -2.000e-05  4.939e-02"/>
      <inertia ixx="0.01" ixy="3.56977e-07" ixz="-3.95372e-06" iyy="0.01" iyz="-6.5128e-06" izz="0.01"/>
    </inertial>
  </link>
  <link name="r_upper_arm">
    <inertial>
      <mass value="0.729"/>
      <origin rpy="0 0 0" xyz="-1.500e-04  8.000e-05  2.988e-02"/>
      <inertia ixx="0.01" ixy="-1.08e-06" ixz="-2.29e-06" iyy="0.01" iyz="3.57e-06" izz="0.01"/>
    </inertial>
    <collision name="r_upper_arm_collision">
      <origin rpy="-3.14159  0       1.309" xyz="-0.02043 -0.00014 -0.068"/>
      <geometry>
        <mesh filename="package://demonstrator6_description/meshes/collision/icub_simple_collision_r_arm.dae" scale="1 1 1"/>
      </geometry>
    </collision>
    <visual name="r_upper_arm_visual">
      <origin rpy="-3.14159  0       1.309" xyz="-0.02043 -0.00014 -0.068"/>
      <geometry>
        <mesh filename="package://demonstrator6_description/meshes/visual/icub_r_arm.dae" scale="1 1 1"/>
      </geometry>
    </visual>
  </link>
  <link name="r_elbow_1">
    <inertial>
      <mass value="0.1"/>
      <origin rpy="0 0 0" xyz="0.0013  -0.00371  0.00105"/>
      <inertia ixx="0.01" ixy="-5.02e-07" ixz="-3.99e-07" iyy="0.01" iyz="-3.71e-07" izz="0.01"/>
    </inertial>
  </link>
  <link name="r_forearm">
    <inertial>
      <mass value="0.525"/>
      <origin rpy="0 0 0" xyz="-0.00034 -0.066   -0.00476"/>
      <inertia ixx="0.01" ixy="5.66e-06" ixz="1.4e-06" iyy="0.01" iyz="1.82e-05" izz="0.01"/>
    </inertial>
    <collision name="r_forearm_collision">
      <origin rpy="-1.74165  1.57079 -0.17086" xyz="0.00014  0      -0.02043"/>
      <geometry>
        <mesh filename="package://demonstrator6_description/meshes/collision/icub_simple_collision_r_forearm.dae" scale="1 1 1"/>
      </geometry>
    </collision>
    <visual name="r_forearm_visual">
      <origin rpy="-1.74165  1.57079 -0.17086" xyz="0.00014  0      -0.02043"/>
      <geometry>
        <mesh filename="package://demonstrator6_description/meshes/visual/icub_r_forearm.dae" scale="1 1 1"/>
      </geometry>
    </visual>
  </link>
  <link name="r_wrist_1">
    <inertial>
      <mass value="0.1"/>
      <origin rpy="0 0 0" xyz="0 0 0"/>
      <inertia ixx="0.01" ixy="0" ixz="0" iyy="0.01" iyz="0" izz="0.01"/>
    </inertial>
  </link>
  <link name="r_hand">
    <inertial>
      <mass value="0.213"/>
      <origin rpy="0 0 0" xyz="0.07023 -0.00805  0.007"/>
      <inertia ixx="0.01" ixy="1.26e-05" ixz="-6.08e-06" iyy="0.01" iyz="1.76e-05" izz="0.01"/>
    </inertial>
    <collision name="r_hand_collision">
      <origin rpy="0       0      -3.14159" xyz="0      0.02043 0.00014"/>
      <geometry>
        <mesh filename="package://demonstrator6_description/meshes/collision/icub_simple_collision_r_hand.dae" scale="1 1 1"/>
      </geometry>
    </collision>
    <visual name="r_hand_visual">
      <origin rpy="0       0      -3.14159" xyz="0      0.02043 0.00014"/>
      <geometry>
        <mesh filename="package://demonstrator6_description/meshes/visual/icub_r_hand.dae" scale="1 1 1"/>
      </geometry>
    </visual>
  </link>
  <plugin name="ROSController_iCub" filename="libcontroller_ros_gazebo_icub.so"/>
  <plugin name="InitiCub" filename="libicub_initialization.so"/>
  <plugin name='ros_control' filename='libgazebo_ros_control.so'>
    <robotNamespace>/icub</robotNamespace>
  </plugin>
</robot>
